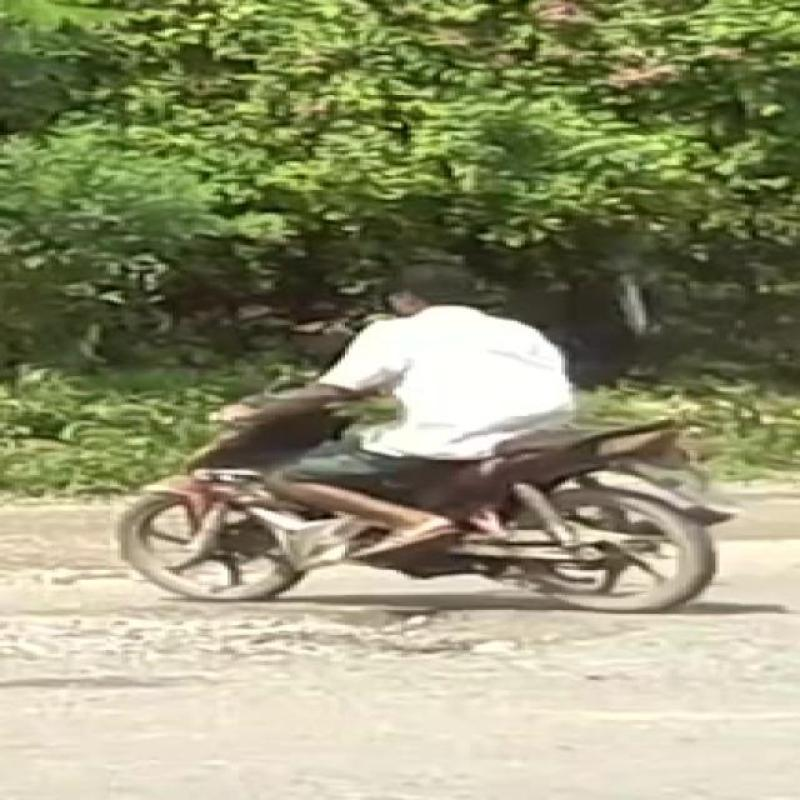nohelmet: (376, 258, 516, 322)
